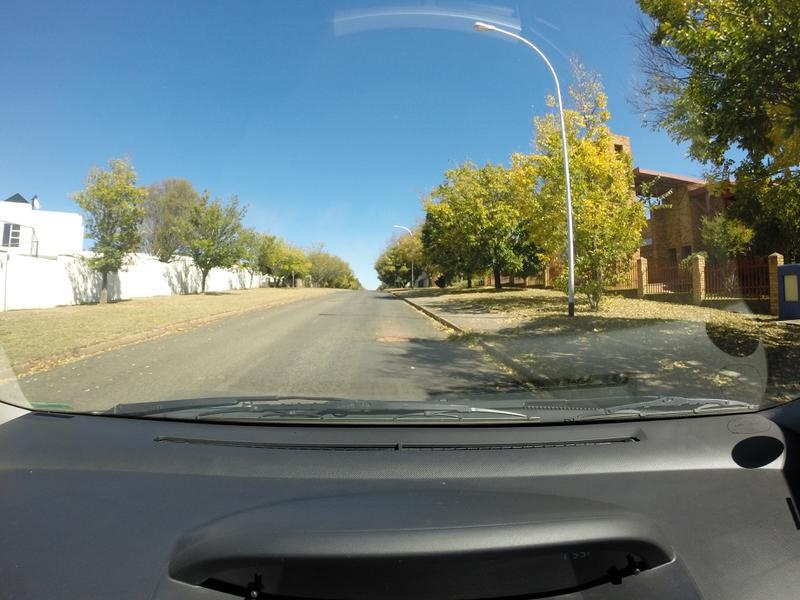pothole: (367, 330, 416, 350)
